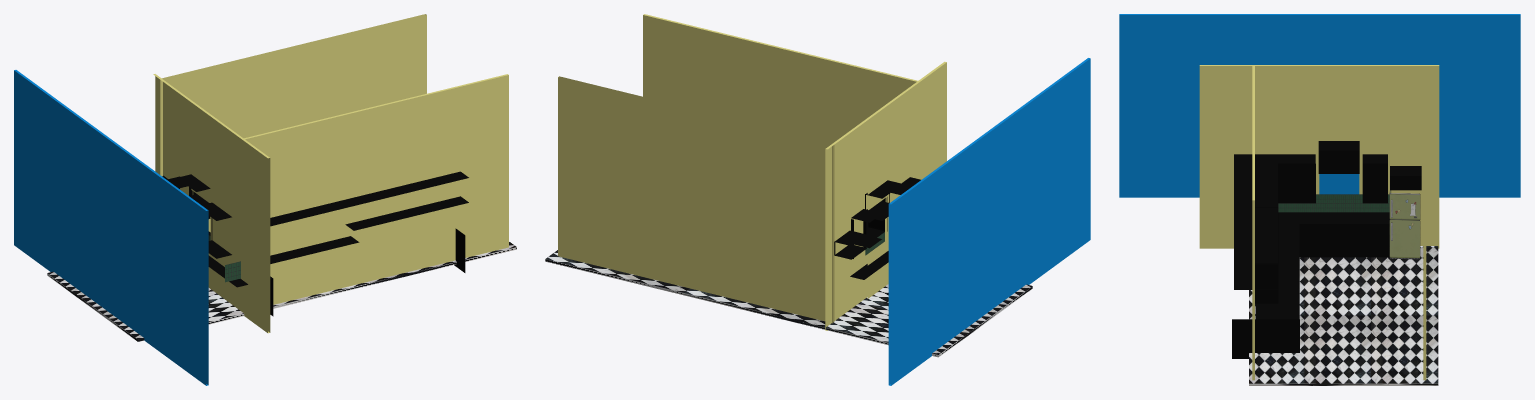
Rendered from kitchen_TEST.fbx.
The picture shows the model from 3 angles, left to right: view 1: azimuth 30°, elevation 25°; view 2: azimuth 150°, elevation 25°; view 3: azimuth 270°, elevation 25°; orthographic projection. The views are drawn at different scales.
Parts seen in each view (by area): view 1: Cube.009, Cube.005, Cube.004, Cube.002, Cube.001, Plane.049, Plane.021, Plane.052, Plane.006, Plane.019, Plane.050; view 2: Cube.004, Cube.005, Cube.009, Cube.002, Cube.001, Plane.003; view 3: Cube.005, Cube.002, Cube.001, Plane.004, Plane.007, Plane.012, Plane.001, Plane.033, Plane.003, Plane.019, Plane.006, Plane.021 (+13 smaller).
Boxes of the visible parts, <box> form: Cube.009: <box>243,74,508,304</box>; Cube.005: <box>14,70,208,385</box>; Cube.004: <box>160,14,426,232</box>; Cube.002: <box>153,74,270,333</box>; Cube.001: <box>47,241,516,341</box>; Plane.049: <box>345,209,413,230</box>; Plane.021: <box>351,185,414,204</box>; Plane.052: <box>406,196,468,217</box>; Plane.006: <box>406,171,468,190</box>; Plane.019: <box>295,198,358,218</box>; Plane.050: <box>290,236,359,256</box>; Cube.004: <box>558,76,834,323</box>; Cube.005: <box>888,58,1090,385</box>; Cube.009: <box>643,14,918,142</box>; Cube.002: <box>825,61,946,330</box>; Cube.001: <box>545,250,1032,357</box>; Plane.003: <box>850,230,888,279</box>; Cube.005: <box>1119,14,1520,197</box>; Cube.002: <box>1199,65,1439,248</box>; Cube.001: <box>1249,246,1438,385</box>; Plane.004: <box>1299,224,1389,257</box>; Plane.007: <box>1255,224,1299,319</box>; Plane.012: <box>1232,319,1299,358</box>; Plane.001: <box>1389,193,1420,259</box>; Plane.033: <box>1278,163,1315,203</box>; Plane.003: <box>1278,212,1389,223</box>; Plane.019: <box>1234,177,1277,208</box>; Plane.006: <box>1234,233,1277,264</box>; Plane.021: <box>1234,208,1277,236</box>.
Bounding box in the file's own units: 2292 × 1031 × 2014.
